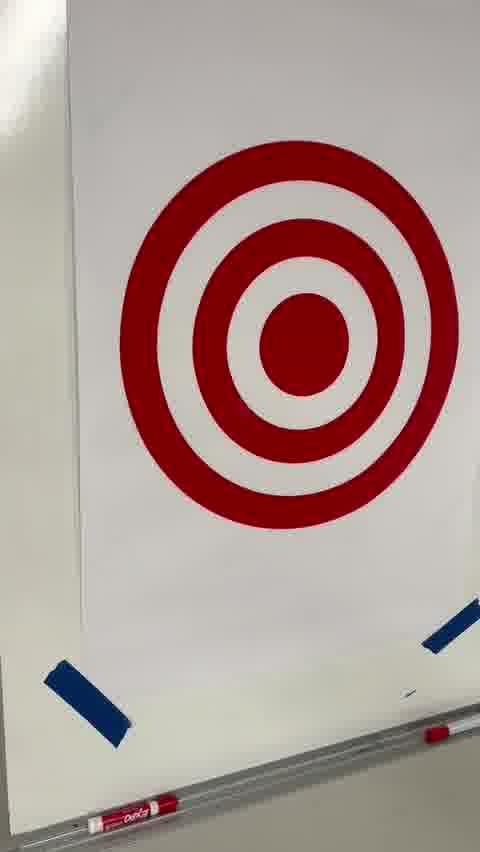target_red: (118, 141, 461, 529)
